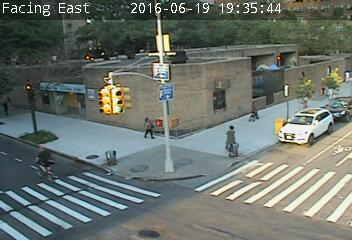neg: (111, 139, 136, 172), (149, 53, 171, 82), (113, 61, 133, 88), (54, 87, 74, 113), (213, 73, 226, 91)
pos: (218, 121, 246, 158), (136, 112, 157, 139), (247, 98, 263, 118)
